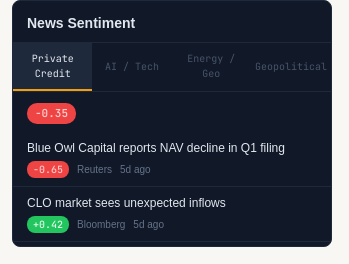
it: NewsSentimentSidebar › shows placeholder when no headlines exist for a domain
Click the tab "Energy / Geo" at (211, 67), box [172,43,251,91]
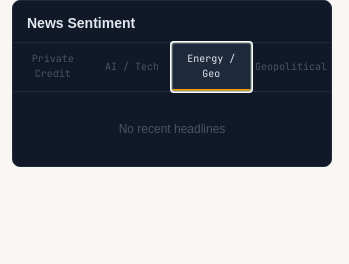
expect the text "No recent headlines" is shown: met, box [119,122,225,136]
